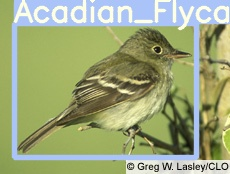Acadian_Flycatcher: (16, 28, 192, 154)
